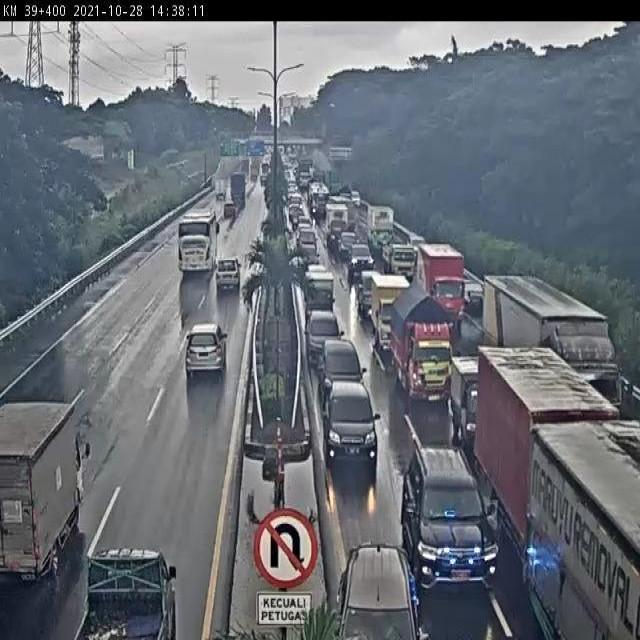big bus: (179, 208, 222, 276)
big truck: (482, 338, 606, 558), (535, 417, 640, 640), (0, 395, 95, 581), (482, 274, 626, 382), (393, 291, 457, 405), (370, 275, 430, 364)
car: (407, 444, 480, 592), (337, 550, 414, 640), (323, 385, 384, 467), (180, 320, 227, 381), (304, 272, 352, 309), (320, 342, 362, 382), (309, 308, 342, 355), (215, 254, 244, 290)
small truck: (77, 548, 193, 640), (448, 352, 513, 448)
